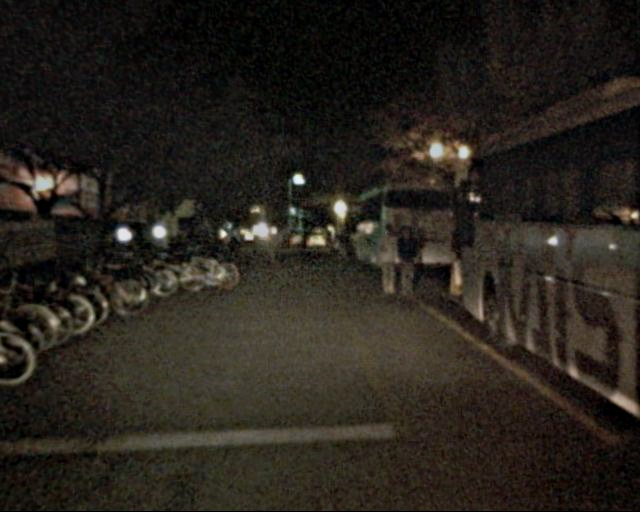person: (391, 223, 422, 298), (368, 225, 398, 299), (331, 221, 352, 273)
